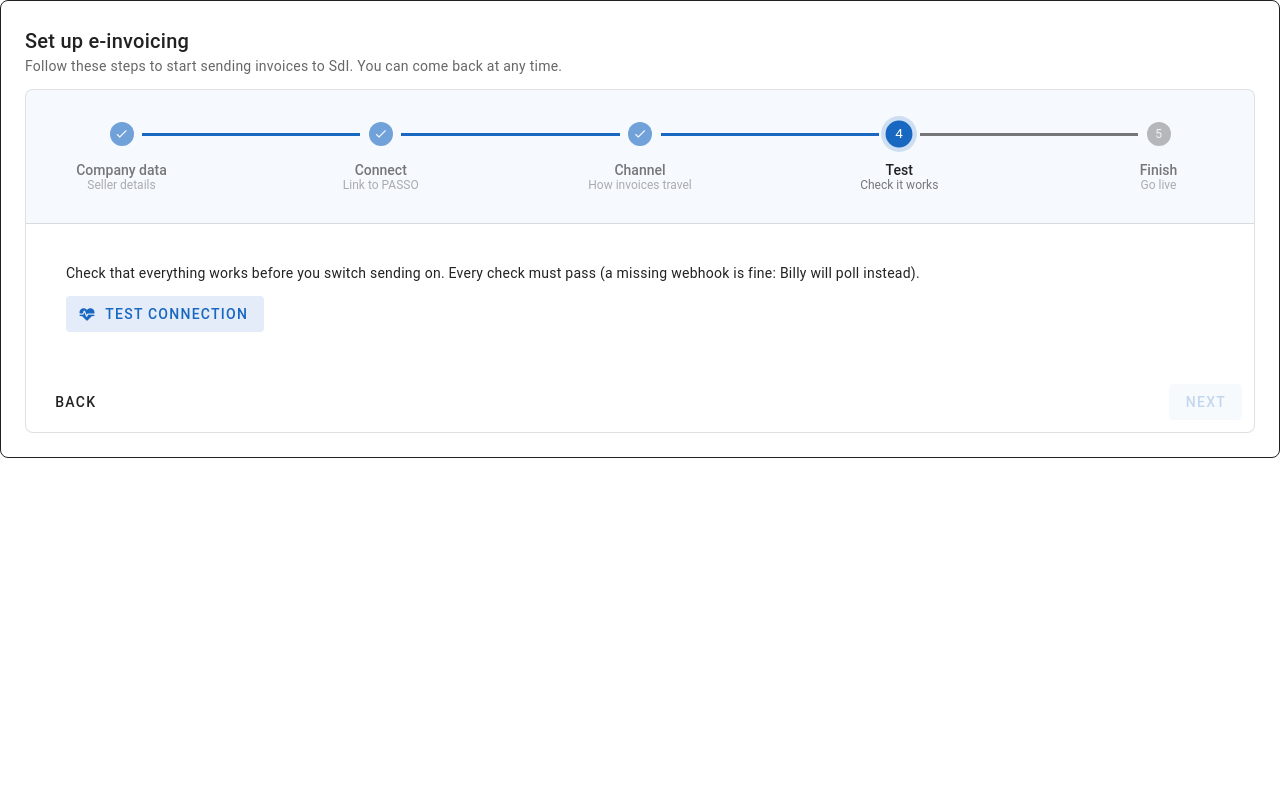
Test: EInvoicingTab — setup wizard › test step: all-green (poll webhook counts) enables Next; Finish saves and enables, flipping to the expert view
The width and height of the screenshot is (1280, 800).
Expected: the button with test id "wizard-next" is disabled, left=1168, top=384, right=1242, bottom=420
Click the button with test id "einvoicing-test" at (165, 314), box left=66, top=296, right=264, bottom=332
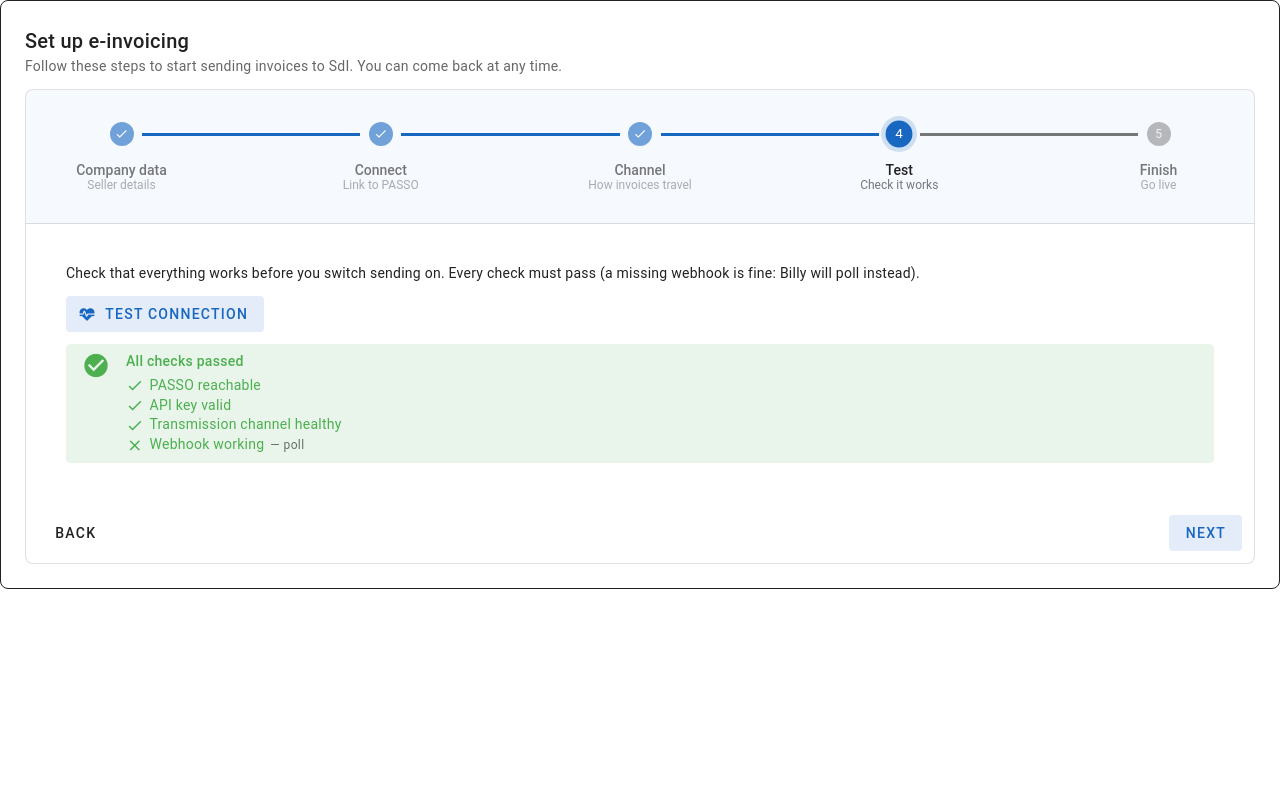
Expected: the button with test id "wizard-next" is enabled
Click the button with test id "wizard-next" at (1205, 533), box left=1168, top=515, right=1242, bottom=551
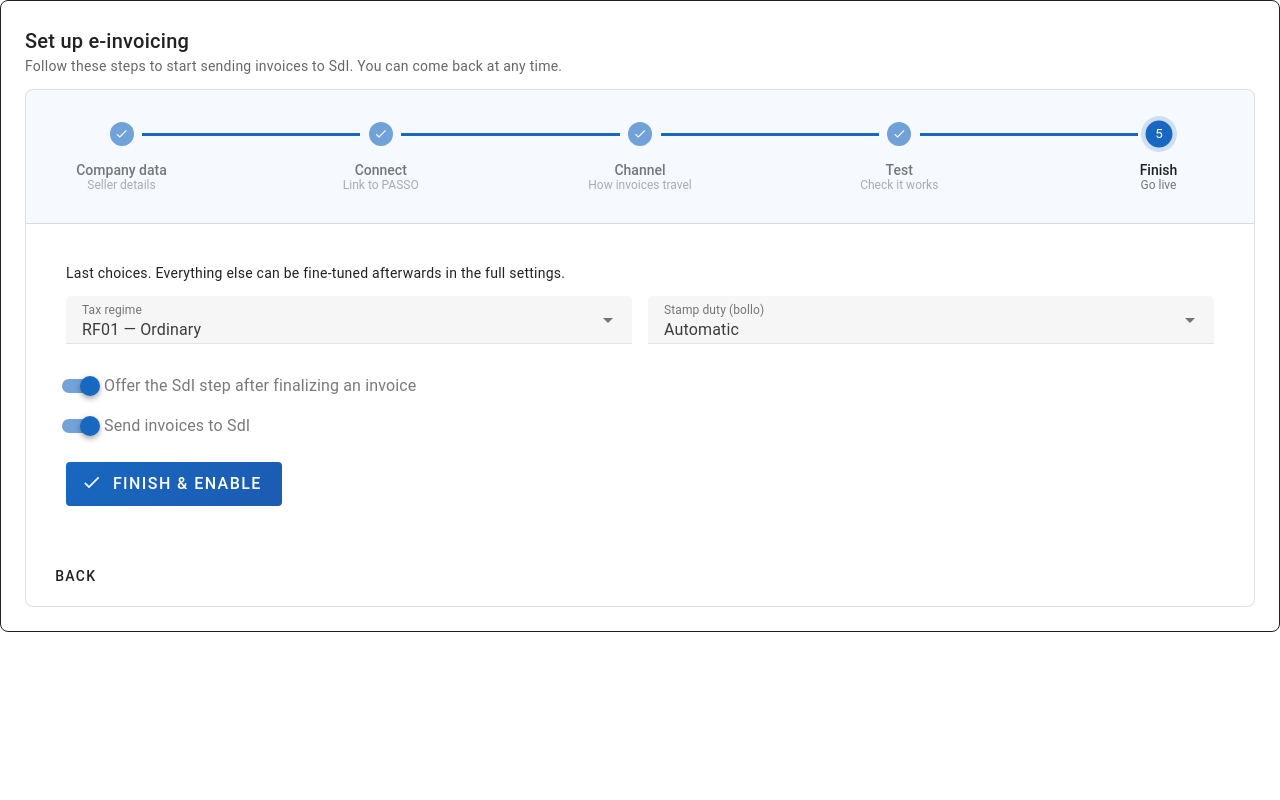
Click the button "Finish & enable" at (174, 484), box left=66, top=462, right=282, bottom=506
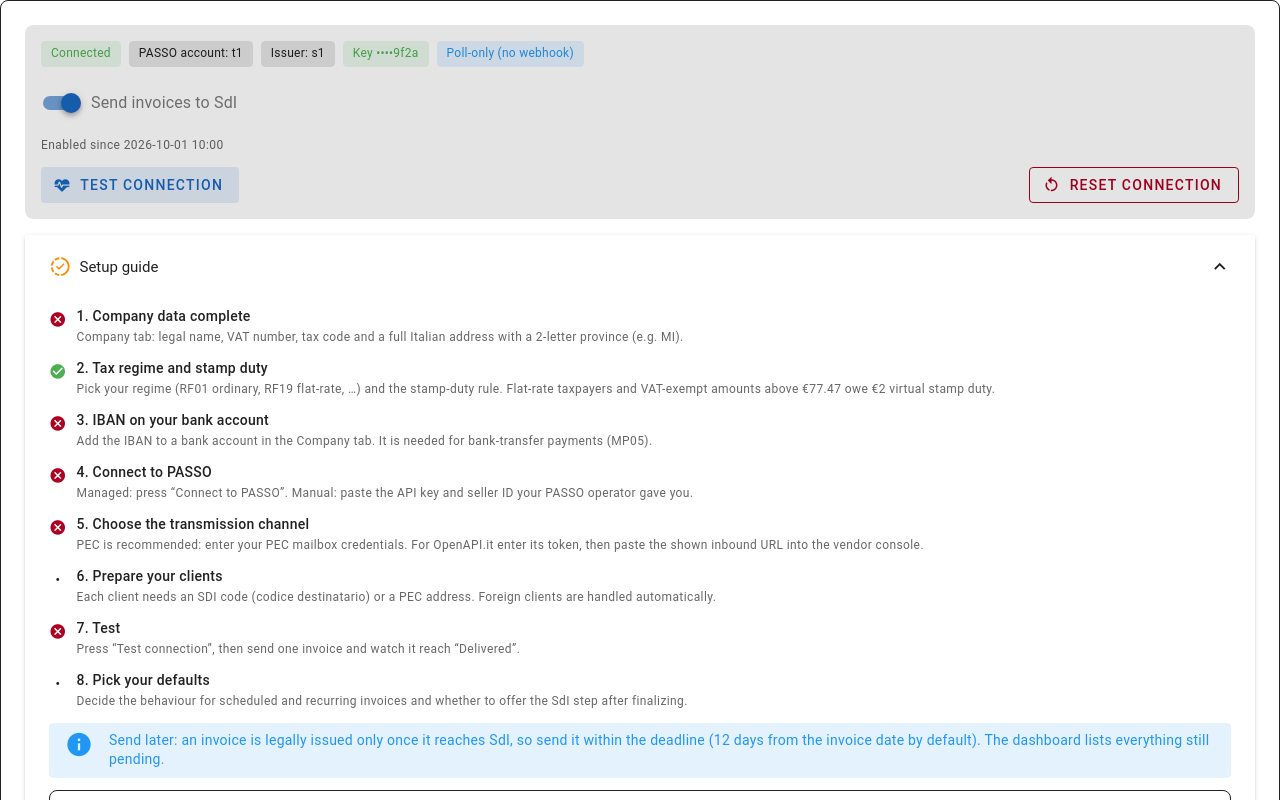
Expected: the element with test id "einvoicing-status-header" is shown, left=25, top=25, right=1255, bottom=219
